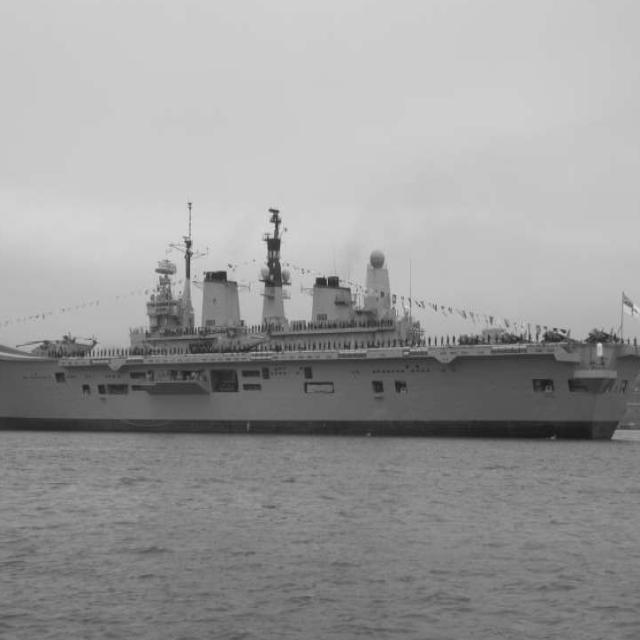Portanaves: (1, 197, 640, 446)
